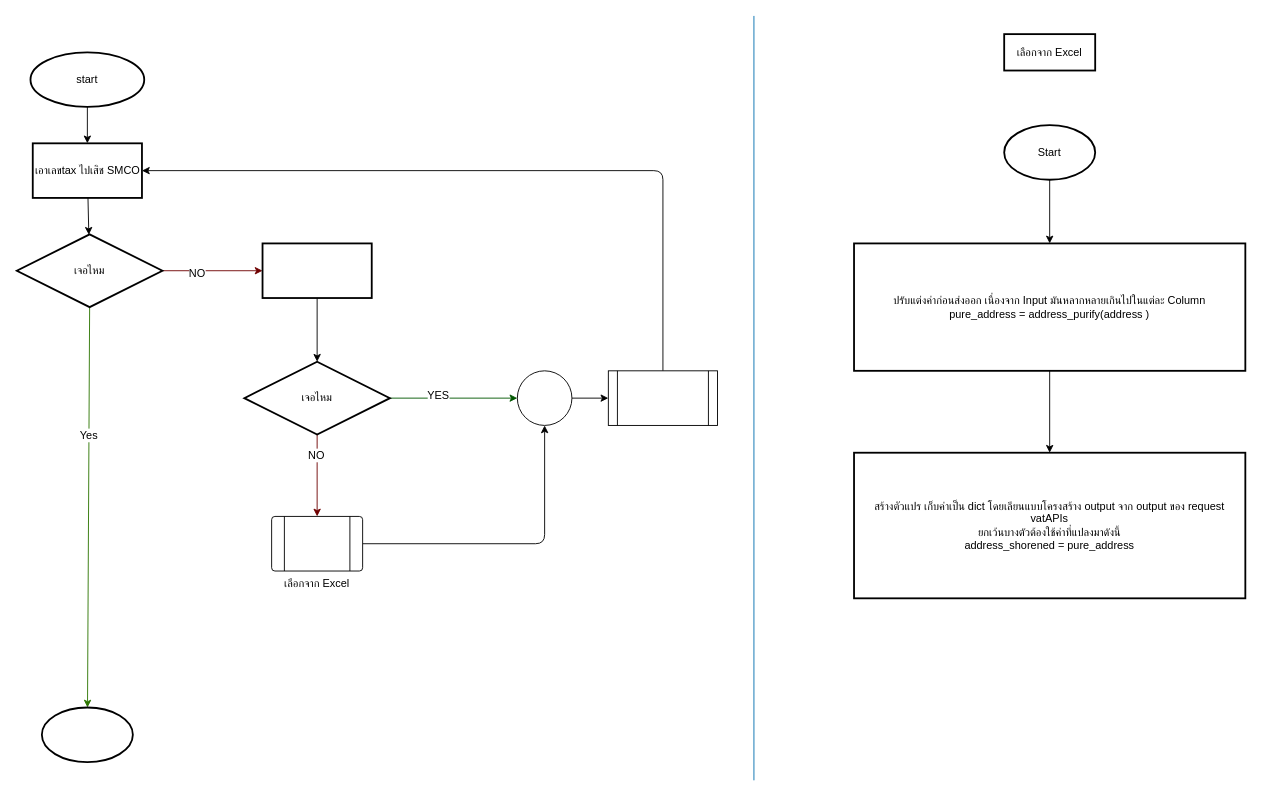
This 1261x797 diagram has some shape labels left out. The shapes that lost their labels are listed below. From the top down, each one's centre as x and y in pixels, then its label:
pixel 316 270: เอาเลขไปเสิช vatinfo
pixel 662 397: นำมาแอดลงระบบ ด้วย function addtaxlaz
pixel 86 734: จบ
